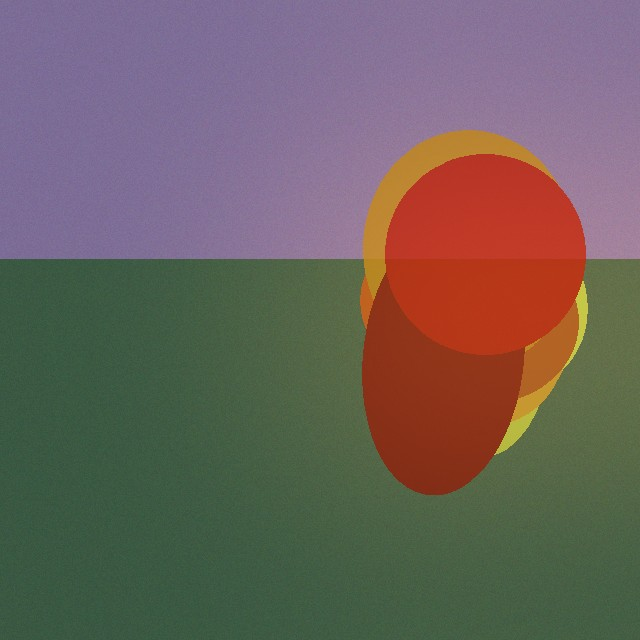fire: (339, 171, 601, 459)
